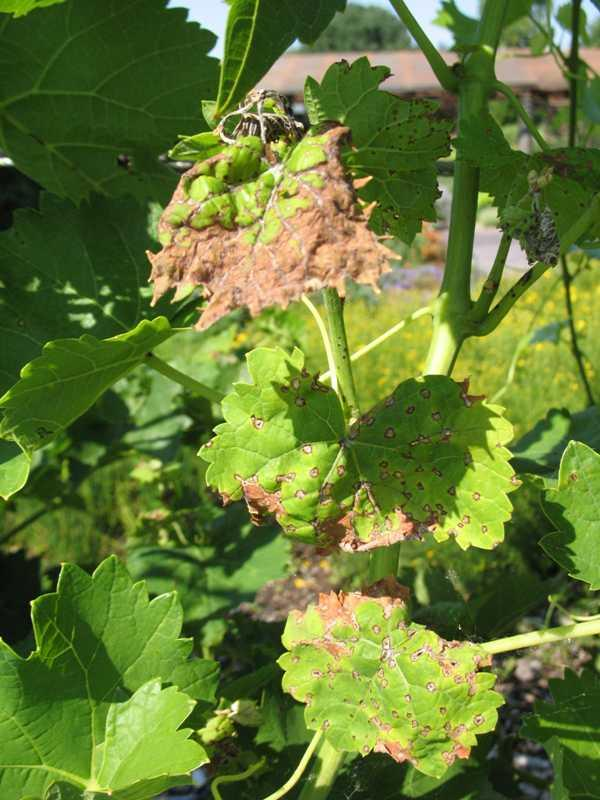grape leaf: (197, 331, 519, 557), (126, 119, 392, 339), (273, 576, 523, 778), (320, 61, 456, 241)
